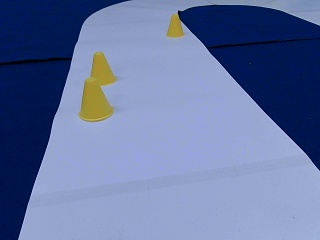cone: (79, 78, 113, 120), (89, 53, 116, 85), (166, 14, 183, 37)
